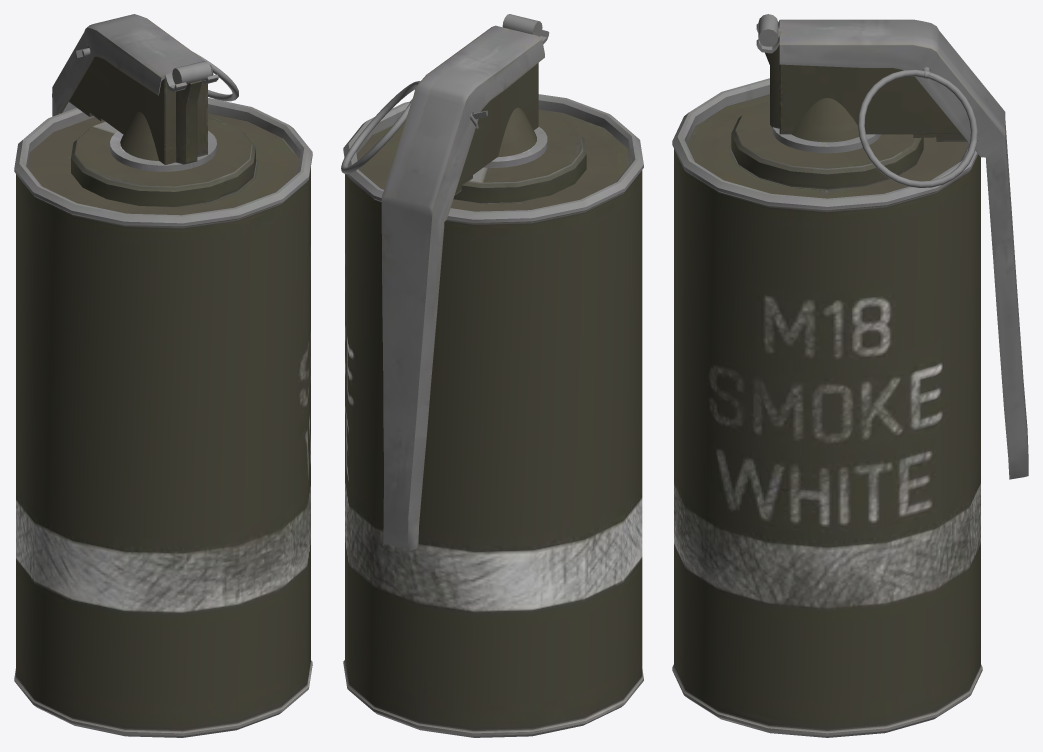
Rendered from Smoke_Grenade.glb.
3 views of the same model, side by side, from view 1: azimuth 30°, elevation 25°; view 2: azimuth 150°, elevation 25°; view 3: azimuth 270°, elevation 25° (orthographic). The views are drawn at different scales.
Visible parts, largest first — view 1: SmokeGrenade; view 2: SmokeGrenade; view 3: SmokeGrenade.
Boxes of the visible parts, bbox=[...] form: SmokeGrenade: bbox=[14, 14, 312, 737]; SmokeGrenade: bbox=[341, 14, 643, 737]; SmokeGrenade: bbox=[672, 14, 1028, 737].
Bounding box in the file's own units: 0.0653 × 0.1513 × 0.0749.
1 material, 1 textured.
